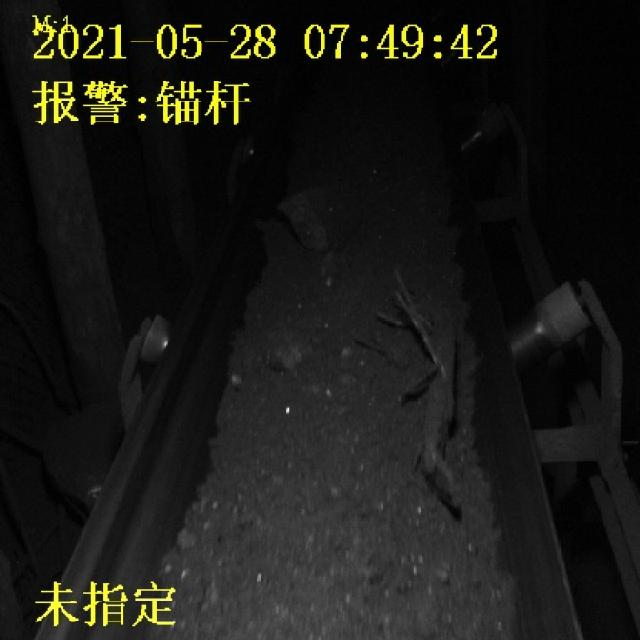bolt: (360, 280, 466, 520)
large_sized_coal: (278, 189, 337, 246), (262, 330, 308, 372)
